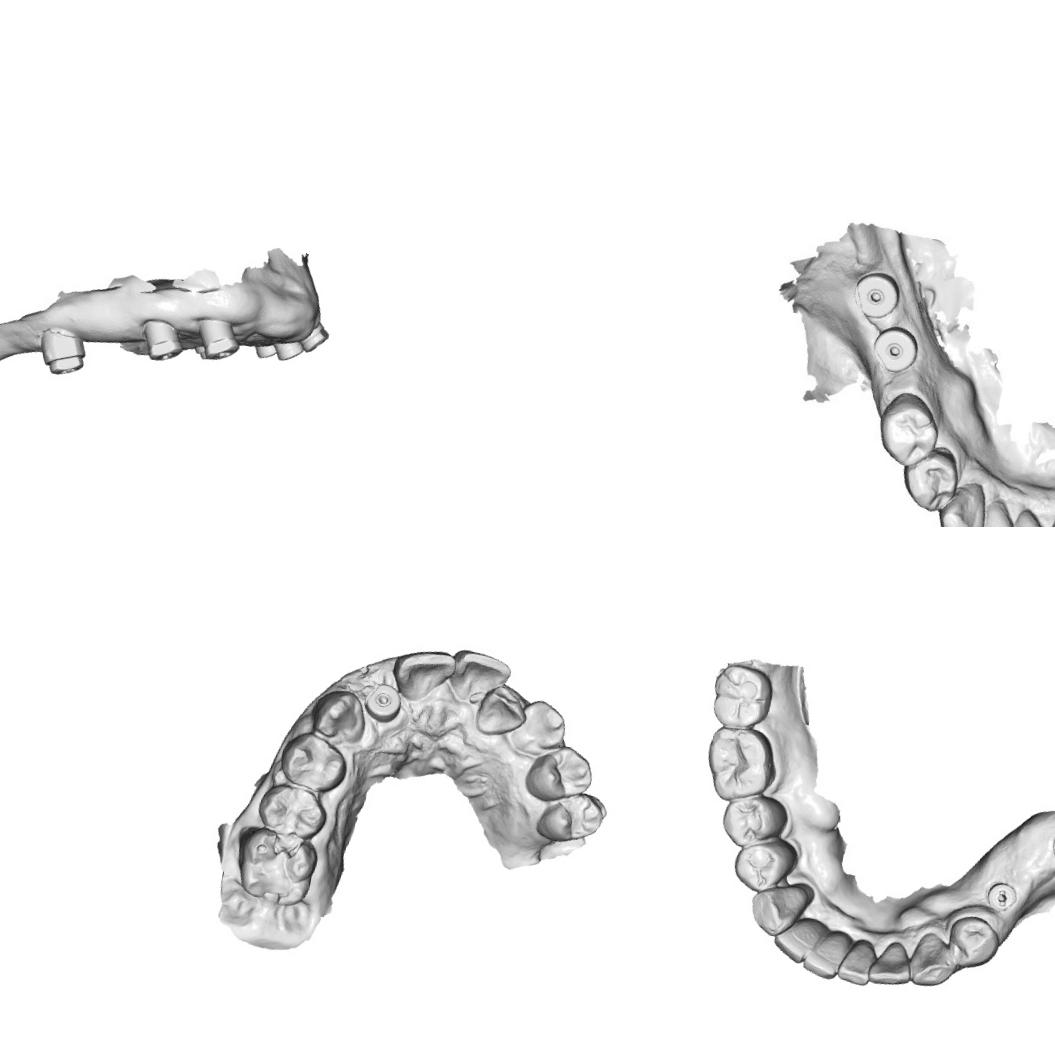canine: (744, 876, 811, 943), (305, 679, 368, 747), (510, 694, 572, 755), (905, 927, 960, 993), (931, 472, 992, 527)
implant: (847, 262, 905, 326), (866, 319, 920, 380), (32, 324, 90, 380), (189, 314, 245, 365), (136, 314, 188, 365), (362, 679, 402, 720), (295, 316, 332, 356), (270, 335, 306, 364), (250, 338, 278, 360)
implant_minus: (982, 878, 1022, 916)
incisor: (386, 642, 456, 708), (442, 646, 510, 712), (470, 679, 530, 743), (864, 934, 920, 991), (769, 912, 825, 968), (799, 926, 850, 982), (833, 937, 877, 989), (972, 497, 1019, 527), (1005, 506, 1055, 527)
molar: (228, 822, 323, 908), (706, 718, 782, 807), (706, 659, 777, 734)
premolar: (521, 738, 596, 808), (274, 726, 351, 794), (716, 787, 792, 855), (534, 784, 608, 850), (254, 778, 329, 840), (728, 834, 796, 897), (879, 397, 937, 468), (942, 911, 1004, 972), (902, 444, 958, 508)
